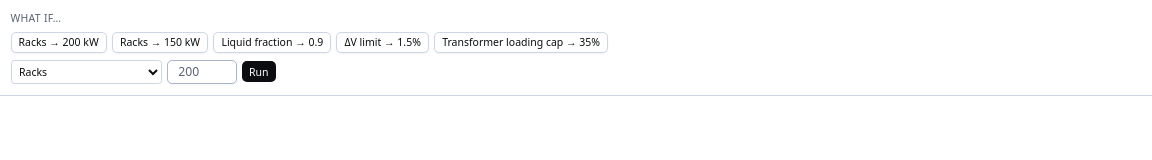
Run with something that is not a number says so
This screenshot has width=1152, height=160.
Type "lots" into the field named "What-if value" at coordinates (202, 72), box [167,60,237,84]
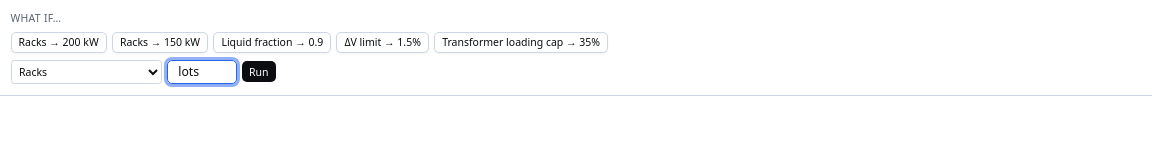
Click the button "Run" at coordinates (259, 72), box [242,61,276,82]
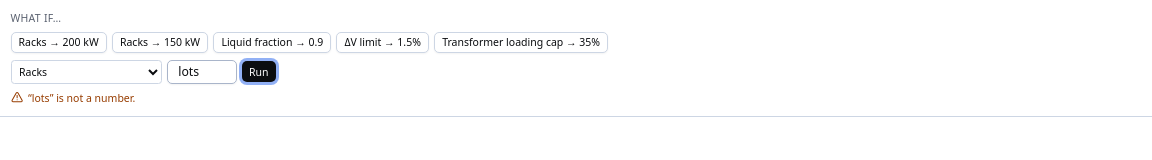
Check: the message reads "“lots” is not a number.", box [28,91,135,105]
